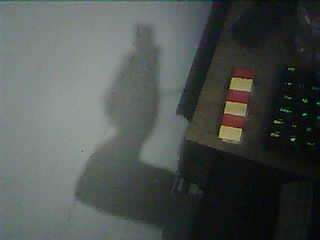lego: (219, 65, 256, 144)
